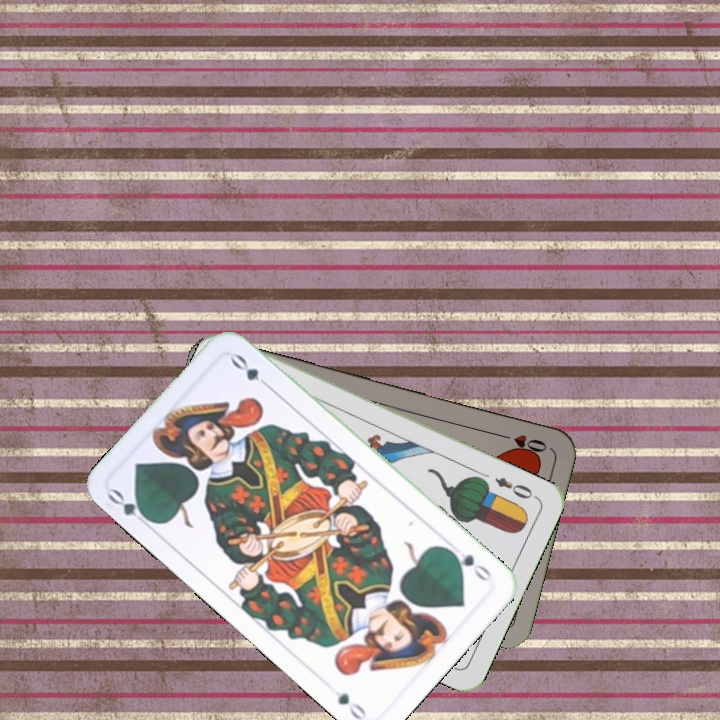EO: (490, 473, 540, 502)
GO: (103, 484, 156, 531), (444, 545, 494, 584)
HO: (493, 429, 550, 455)
